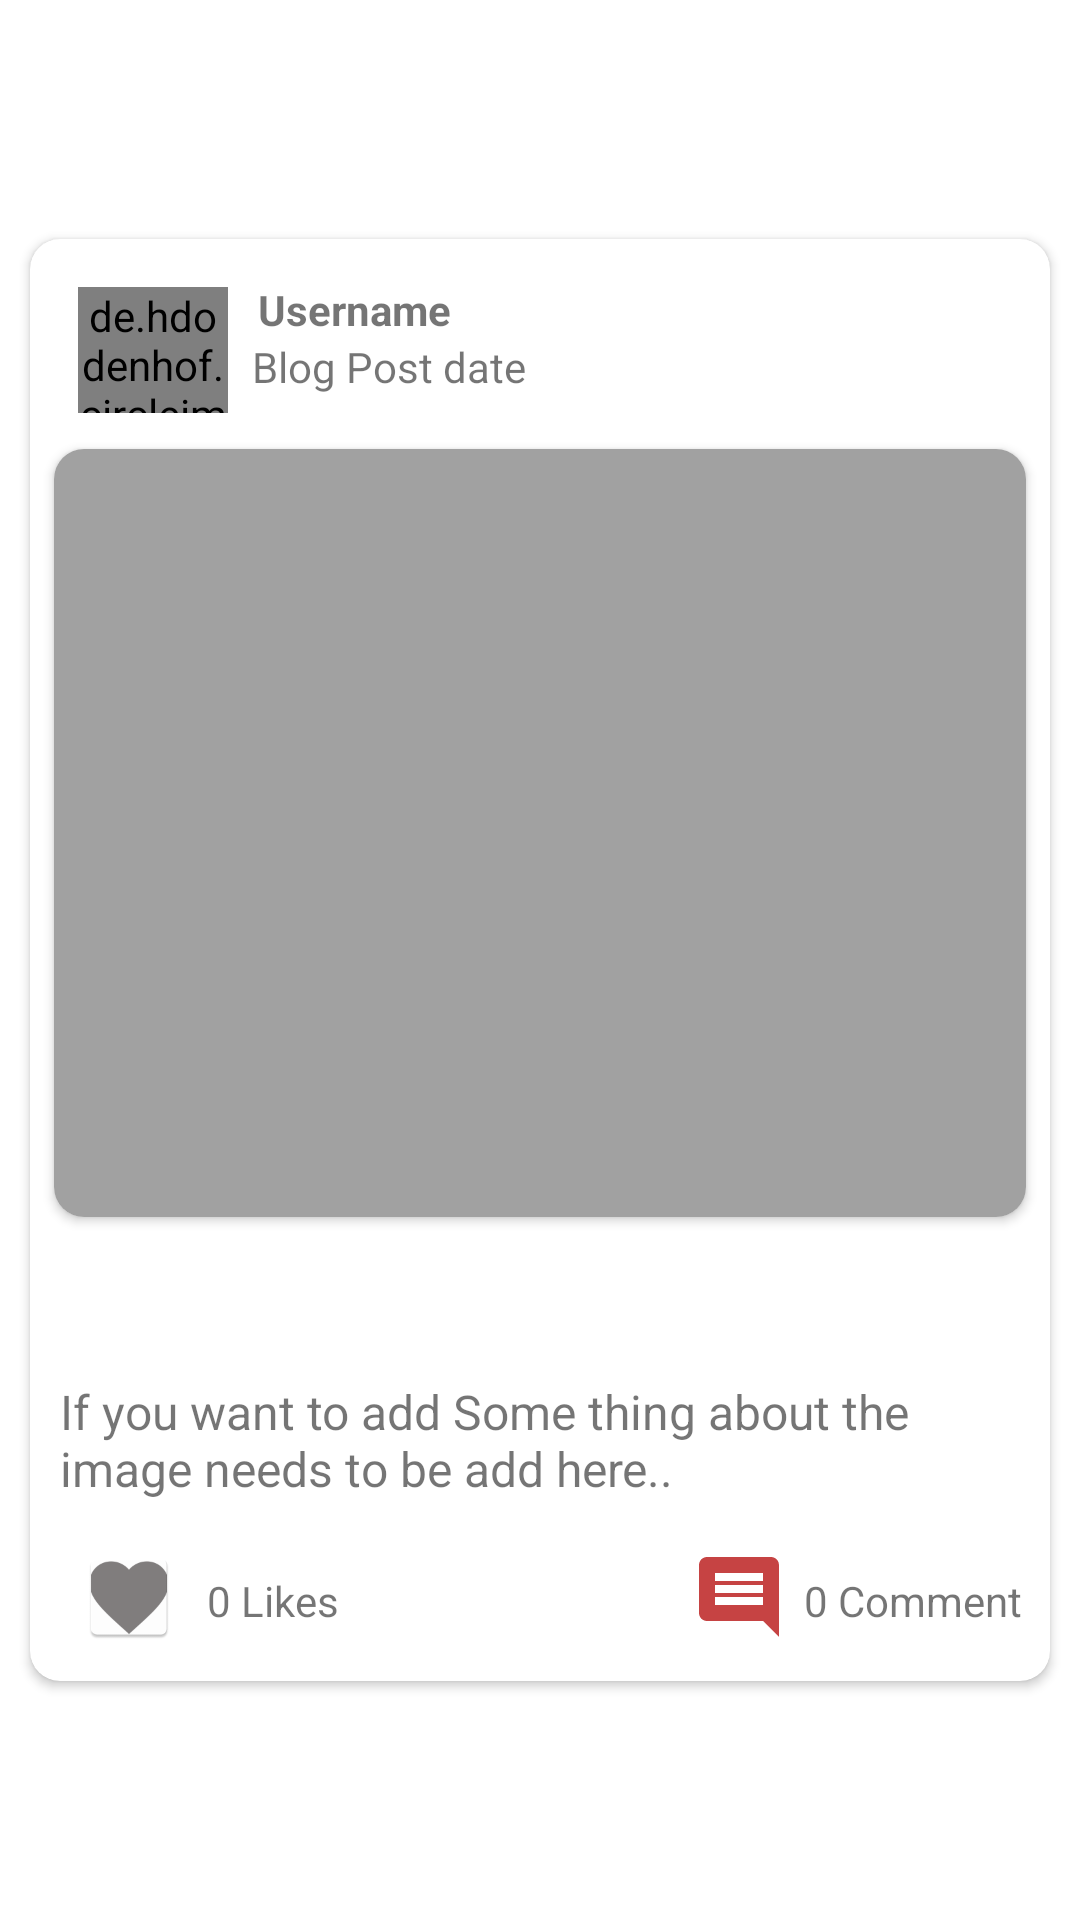

Screen size 1080w x 1920h. Icon name, then its center in pixels as point (x, y):
drawablecomment: point (739, 1597)
unlike: point (129, 1599)
